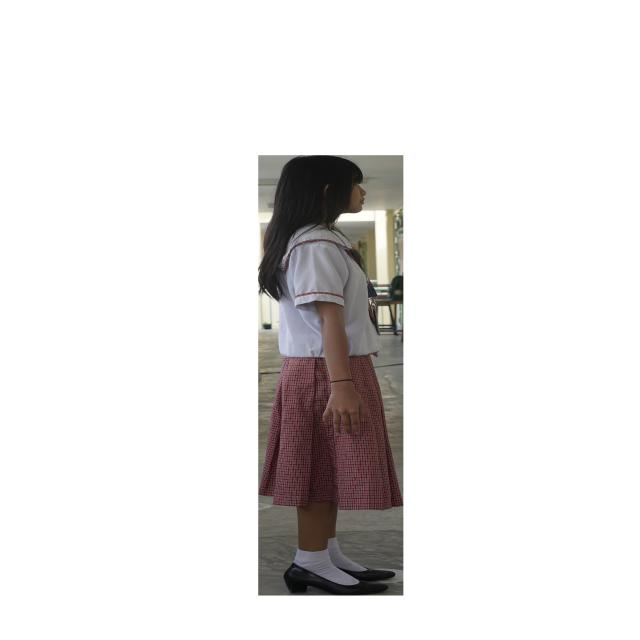skirt: (258, 355, 402, 510)
